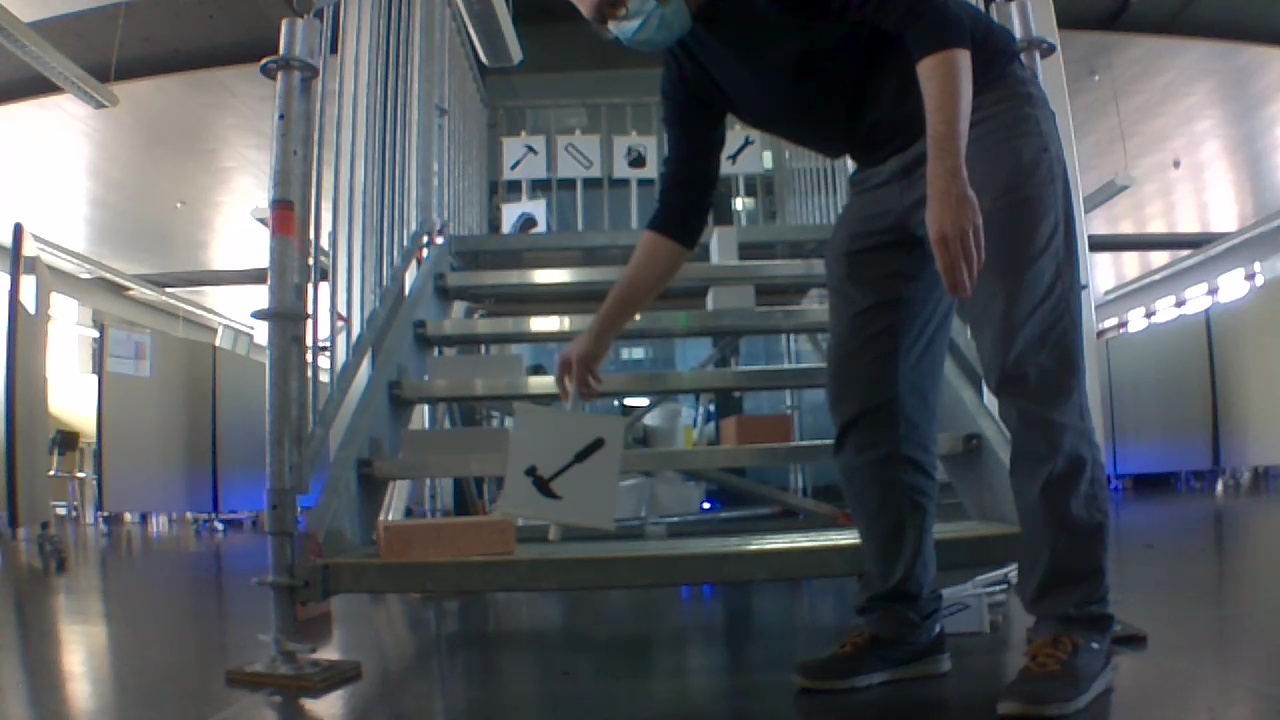brick: (377, 518, 512, 561), (402, 426, 507, 457), (429, 356, 525, 380), (721, 414, 794, 443), (706, 286, 754, 309), (709, 227, 738, 261)
bucket: (619, 140, 650, 174)
hammer: (519, 429, 608, 508), (504, 140, 542, 173)
ruler: (560, 138, 596, 174)
taco: (502, 208, 538, 237)
wrench: (722, 131, 759, 169)
